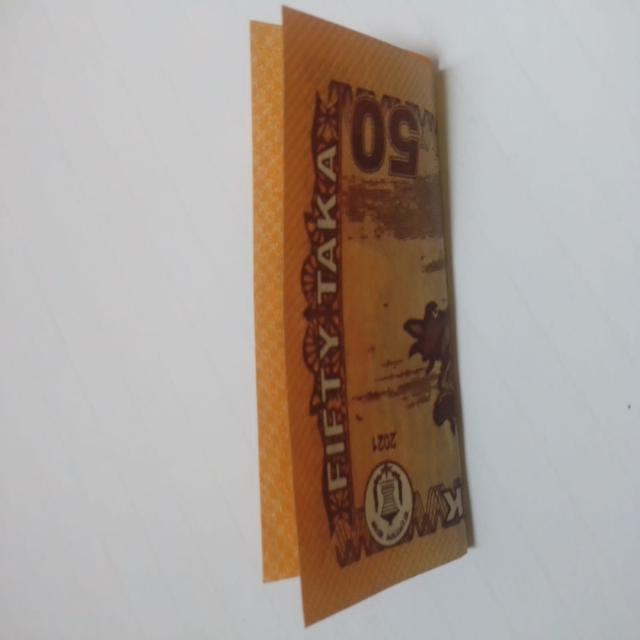Taka: (252, 6, 487, 598)
